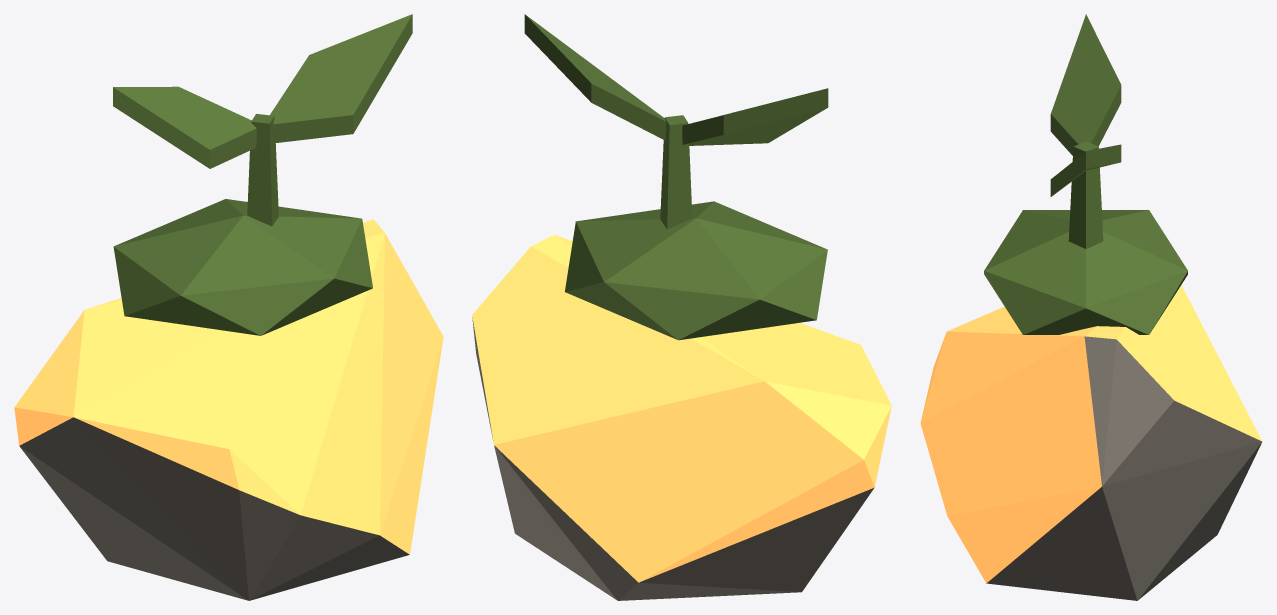
File: Emblem_Earth.fbx
3 renders of one model, left to right at view 1: azimuth 30°, elevation 25°; view 2: azimuth 150°, elevation 25°; view 3: azimuth 270°, elevation 25°, orthographic. The views are drawn at different scales.
Visible parts, largest first — view 1: Emblem_Earth; view 2: Emblem_Earth; view 3: Emblem_Earth.
Boxes of the visible parts, x1,y1,x2,y2 form: Emblem_Earth: (14,14,443,600); Emblem_Earth: (472,14,891,600); Emblem_Earth: (920,14,1262,600).
Bounding box in the file's own units: 0.3138 × 0.358 × 0.2423.
